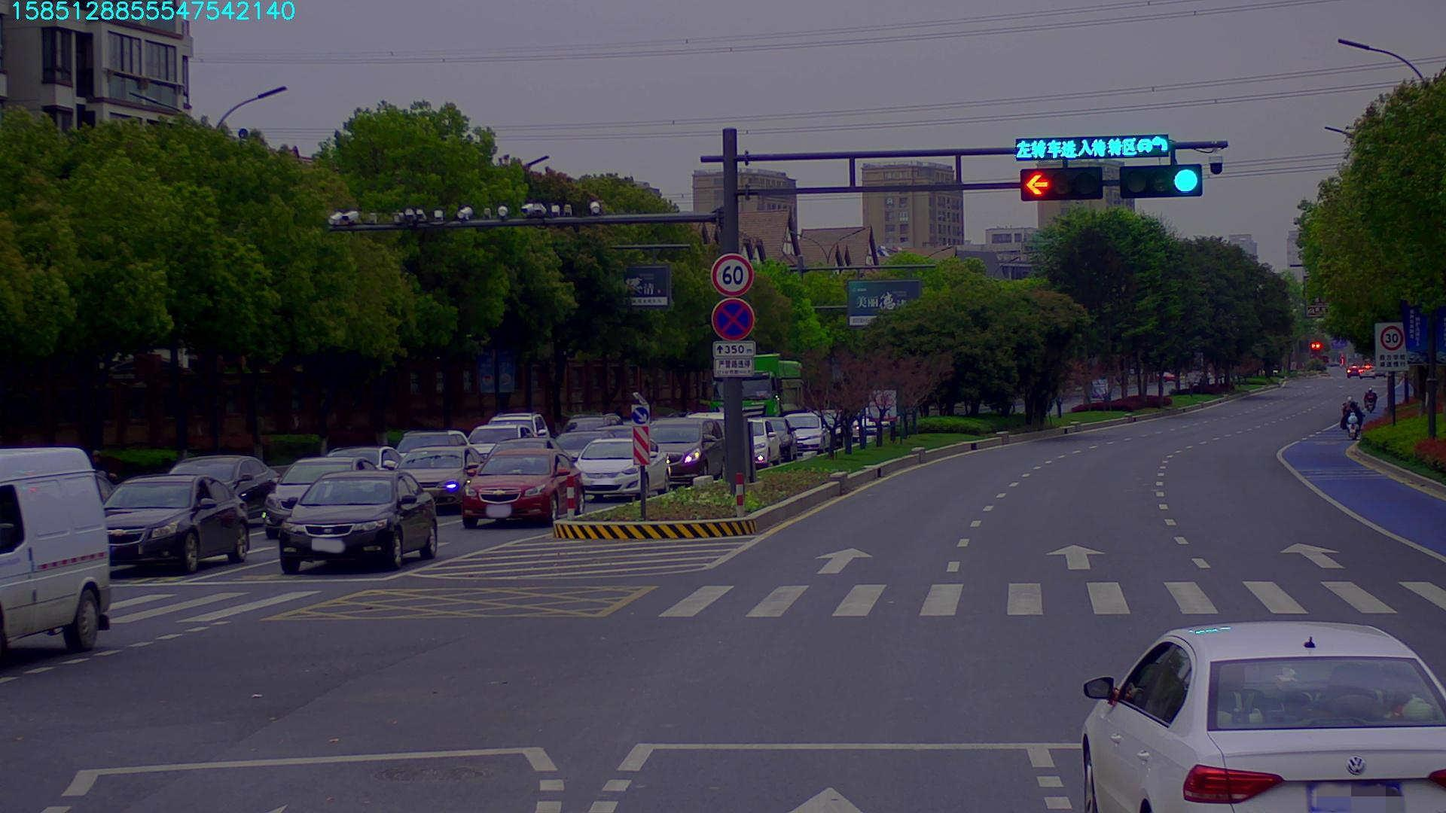green: (1121, 169, 1210, 200)
red: (1016, 166, 1103, 206)
wait_on: (1014, 139, 1172, 160)
